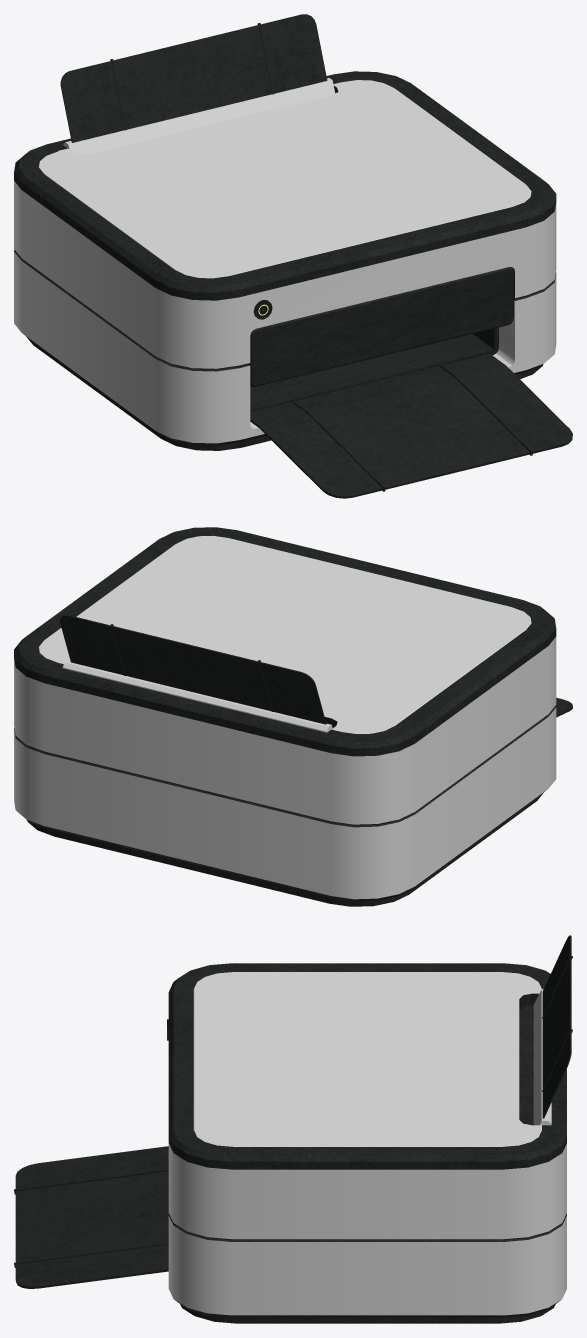
The model's file is printer.glb.
The picture shows the model from 3 angles, top to bottom: view 1: azimuth 30°, elevation 25°; view 2: azimuth 150°, elevation 25°; view 3: azimuth 270°, elevation 25°; orthographic projection. The views are drawn at different scales.
Visible parts, largest first — view 1: printer; view 2: printer; view 3: printer.
Part boxes in pixels (x1=…): printer: x1=14, y1=14, x2=572, y2=498; printer: x1=14, y1=527, x2=572, y2=906; printer: x1=14, y1=935, x2=572, y2=1323.
Size of what is drawn, in the model's own units: 0.7583 by 0.43 by 0.9139.
3 materials, 1 textured.
